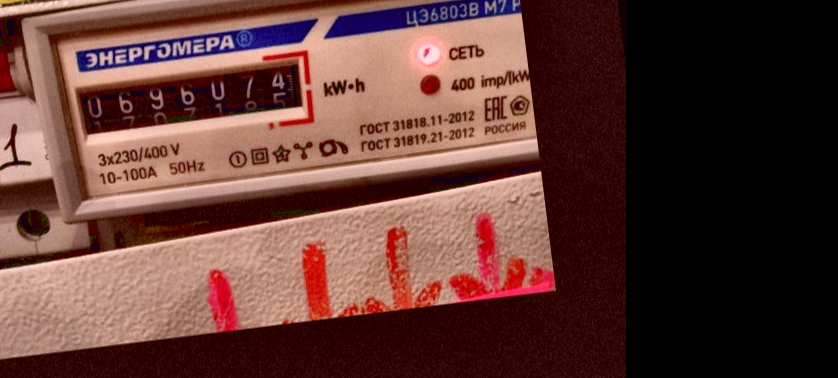0: (82, 92, 104, 119), (208, 74, 227, 101)
4: (269, 65, 287, 91)
5: (271, 89, 289, 109)
6: (115, 86, 137, 115), (177, 79, 196, 105)
7: (237, 71, 258, 99)
9: (145, 83, 167, 110)
screen: (62, 44, 322, 155)
